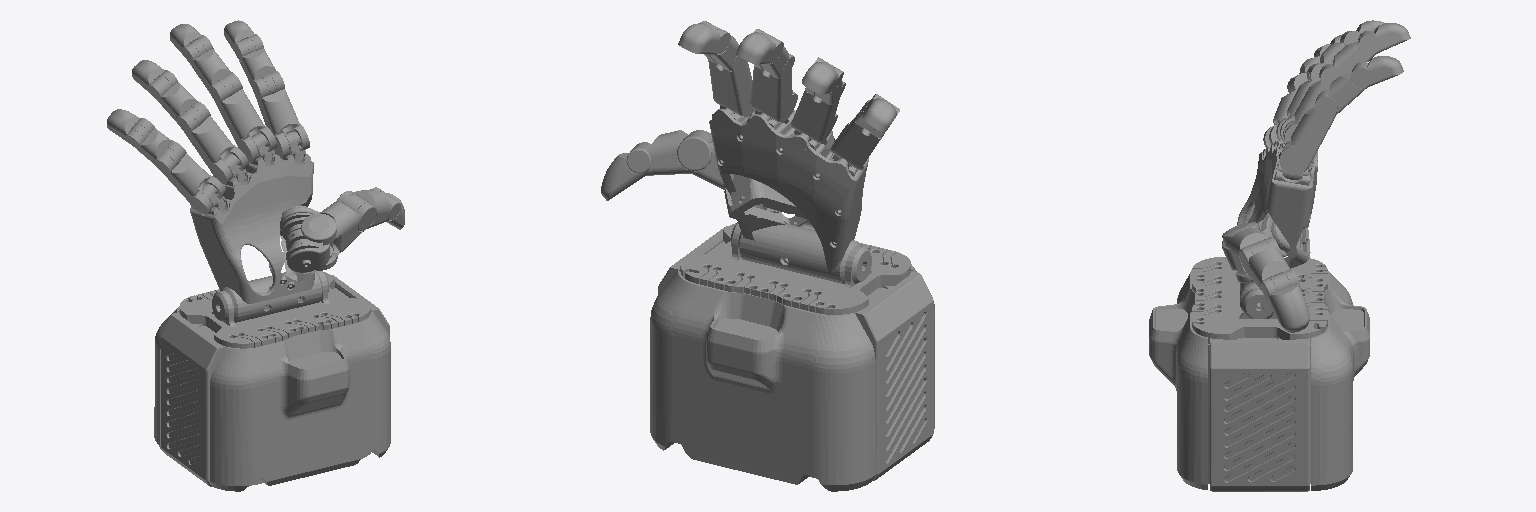
--- What the picture shows (computed from the rendered views, not written in the file) ---
Views: 3 orthographic renders of the robot side by side, from view 1: azimuth 30°, elevation 25°; view 2: azimuth 150°, elevation 25°; view 3: azimuth 270°, elevation 25°.
Robot: p50_autoconverted — 27 links, 26 joints (20 revolute, 6 fixed); root link root; default pose: every joint at zero.
Visible links, largest first — view 1: base_link, middle_pp, thumb_mp, ring_pp, index_pp, pinky_pp, thumb_cmc, thumb_pp, middle_mp, ring_mp, index_mp, pinky_dp (+4 smaller); view 2: base_link, thumb_pp, middle_pp, index_pp, ring_pp, pinky_pp, index_dp, middle_dp, thumb_dp, ring_dp, pinky_dp, thumb_mp; view 3: base_link, index_pp, thumb_pp, thumb_dp, thumb_mp, index_dp, middle_dp, middle_pp, index_mp, pinky_pp, middle_mp, ring_pp.
Boxes of the visible links, x1,y1,x2,y2 form: base_link: (154,149,390,491); middle_pp: (208,72,276,162); thumb_mp: (301,194,368,270); ring_pp: (176,101,248,183); index_pp: (252,71,309,158); pinky_pp: (154,140,225,214); thumb_cmc: (280,207,332,272); thumb_pp: (337,187,400,230); middle_mp: (190,39,234,96); ring_mp: (155,75,203,125); index_mp: (239,37,276,94); pinky_dp: (107,109,154,148); base_link: (650,109,934,491); thumb_pp: (627,130,711,175); middle_pp: (750,54,797,122); index_pp: (708,56,754,116); ring_pp: (790,81,845,143); pinky_pp: (830,100,883,169); index_dp: (678,21,730,54); middle_dp: (736,29,783,64); thumb_dp: (601,144,649,200); ring_dp: (802,57,843,94); pinky_dp: (863,94,899,132); thumb_mp: (686,132,766,209); base_link: (1149,141,1369,491); index_pp: (1280,90,1337,174); thumb_pp: (1239,237,1299,300); thumb_dp: (1269,272,1309,332); thumb_mp: (1222,222,1269,282); index_dp: (1350,56,1403,87); middle_dp: (1358,23,1410,54); middle_pp: (1283,64,1341,142); index_mp: (1316,64,1367,114); pinky_pp: (1263,73,1307,148); middle_mp: (1320,32,1375,73); ring_pp: (1276,63,1325,143).
Size in the robot's own frame: 0.2016 by 0.1615 by 0.2778 metres.
26 mesh visuals loaded from 26 distinct referenced files (26 binary STL).

robot.urdf — p50_autoconverted:
<?xml version="1.0" ?>
<!-- =================================================================================== -->
<!-- |    This document was autogenerated by xacro from simplified.xacro               | -->
<!-- |    EDITING THIS FILE BY HAND IS RECOMMENDED                                     | -->
<!-- =================================================================================== -->
<robot name="p50_autoconverted">
  <material name="silver_default">
    <color rgba="0.700 0.700 0.700 1.000"/>
  </material>
  <material name="Steel_Satin">
    <color rgba="0.6274509803921569 0.6274509803921569 0.6274509803921569 1.0"/>
  </material>
  <link name="root"/>
  <link name="base_link">
    <inertial>
      <origin rpy="0.0 0.0 0.0" xyz="-0.00025743985489043707 0.002783420515116142 0.05479188623862443"/>
      <mass value="11.839727556266766"/>
      <inertia ixx="0.025854110200000006" ixy="1.1251800000000001e-05" ixz="0.00026008170000000003" iyy="0.0314024074" iyz="-0.00035490340000000003" izz="0.027059390900000004"/>
    </inertial>
    <visual>
      <origin rpy="0.0 0.0 0.0" xyz="0.0 0.0 0.0"/>
      <geometry>
        <mesh filename="meshes/visual/base_link.stl" scale="0.001 0.001 0.001"/>
      </geometry>
      <material name="Steel_Satin"/>
    </visual>
    <collision>
      <origin rpy="0.0 0.0 0.0" xyz="0.0 0.0 0.0"/>
      <geometry>
        <mesh filename="meshes/visual/base_link.stl" scale="0.001 0.001 0.001"/>
      </geometry>
    </collision>
  </link>
  <link name="index_mcp">
    <inertial>
      <origin rpy="1.7017348928028146 -0.10749161153413689 1.762782544514273" xyz="0.0037575958450508295 0.0 3.1689745901815615e-05"/>
      <mass value="0.0026395511835507687"/>
      <inertia ixx="1.1820000000000003e-07" ixy="9e-10" ixz="1.04e-08" iyy="1.138e-07" iyz="-7.100000000000001e-09" izz="6.74e-08"/>
    </inertial>
    <visual>
      <origin rpy="1.7017348928028146 -0.10749161153413689 1.762782544514273" xyz="-0.19142570945292872 -0.0638459650901201 0.0027879270241161574"/>
      <geometry>
        <mesh filename="meshes/visual/index_mcp.stl" scale="0.001 0.001 0.001"/>
      </geometry>
      <material name="Steel_Satin"/>
    </visual>
    <collision>
      <origin rpy="1.7017348928028146 -0.10749161153413689 1.762782544514273" xyz="-0.19142570945292872 -0.0638459650901201 0.0027879270241161574"/>
      <geometry>
        <mesh filename="meshes/visual/index_mcp.stl" scale="0.001 0.001 0.001"/>
      </geometry>
    </collision>
  </link>
  <link name="middle_mcp">
    <inertial>
      <origin rpy="1.710422666954546 0.0 1.8849555921538765" xyz="0.0037575958450506877 0.0 3.168974590181506e-05"/>
      <mass value="0.0026395511835507687"/>
      <inertia ixx="1.15e-07" ixy="2.2000000000000003e-09" ixz="1.63e-08" iyy="1.1399999999999999e-07" iyz="-5.9e-09" izz="7.040000000000001e-08"/>
    </inertial>
    <visual>
      <origin rpy="1.710422666954546 0.0 1.8849555921538765" xyz="-0.19275971829860722 -0.06552295023217906 0.005739211794064878"/>
      <geometry>
        <mesh filename="meshes/visual/middle_mcp.stl" scale="0.001 0.001 0.001"/>
      </geometry>
      <material name="Steel_Satin"/>
    </visual>
    <collision>
      <origin rpy="1.710422666954546 0.0 1.8849555921538765" xyz="-0.19275971829860722 -0.06552295023217906 0.005739211794064878"/>
      <geometry>
        <mesh filename="meshes/visual/middle_mcp.stl" scale="0.001 0.001 0.001"/>
      </geometry>
    </collision>
  </link>
  <link name="pinky_mcp">
    <inertial>
      <origin rpy="1.7010466700342677 0.20431604263360326 2.1467549799530254" xyz="0.0037575958450507584 0.0 -0.00011831025409819008"/>
      <mass value="0.0026395511835507687"/>
      <inertia ixx="1.042e-07" ixy="9e-10" ixz="2.5099999999999996e-08" iyy="1.151e-07" iyz="1e-09" izz="8.01e-08"/>
    </inertial>
    <visual>
      <origin rpy="1.7010466700342677 0.20431604263360326 2.1467549799530254" xyz="-0.17443999513816405 -0.06463563158133116 0.001950706904977398"/>
      <geometry>
        <mesh filename="meshes/visual/pinky_mcp.stl" scale="0.001 0.001 0.001"/>
      </geometry>
      <material name="Steel_Satin"/>
    </visual>
    <collision>
      <origin rpy="1.7010466700342677 0.20431604263360326 2.1467549799530254" xyz="-0.17443999513816405 -0.06463563158133116 0.001950706904977398"/>
      <geometry>
        <mesh filename="meshes/visual/pinky_mcp.stl" scale="0.001 0.001 0.001"/>
      </geometry>
    </collision>
  </link>
  <link name="ring_mcp">
    <inertial>
      <origin rpy="1.7018668462741051 0.10862308449673885 2.00712863979348" xyz="0.003757595845050581 0.0 -0.00011831025409819729"/>
      <mass value="0.0026395511835507687"/>
      <inertia ixx="1.104e-07" ixy="2.2000000000000003e-09" ixz="2.12e-08" iyy="1.147e-07" iyz="-2.7e-09" izz="7.43e-08"/>
    </inertial>
    <visual>
      <origin rpy="1.7018668462741051 0.10862308449673885 2.00712863979348" xyz="-0.18579322370454734 -0.06428672495618938 0.0033431266067439026"/>
      <geometry>
        <mesh filename="meshes/visual/ring_mcp.stl" scale="0.001 0.001 0.001"/>
      </geometry>
      <material name="Steel_Satin"/>
    </visual>
    <collision>
      <origin rpy="1.7018668462741051 0.10862308449673885 2.00712863979348" xyz="-0.18579322370454734 -0.06428672495618938 0.0033431266067439026"/>
      <geometry>
        <mesh filename="meshes/visual/ring_mcp.stl" scale="0.001 0.001 0.001"/>
      </geometry>
    </collision>
  </link>
  <link name="thumb_cmc">
    <inertial>
      <origin rpy="-1.3936916939156758 -1.1603495754713762 0.9074649550610439" xyz="-6.285710729230232e-06 -0.018793316757115052 0.0032730901278382562"/>
      <mass value="0.13646098534521342"/>
      <inertia ixx="1.92542e-05" ixy="-1.1488e-06" ixz="-1.3239e-06" iyy="1.46583e-05" iyz="-3.821e-06" izz="1.97712e-05"/>
    </inertial>
    <visual>
      <origin rpy="-1.3936916939156758 -1.1603495754713762 0.9074649550610439" xyz="0.12438495858597794 -0.09398871280060712 -0.028859361053456926"/>
      <geometry>
        <mesh filename="meshes/visual/thumb_cmc.stl" scale="0.001 0.001 0.001"/>
      </geometry>
      <material name="Steel_Satin"/>
    </visual>
    <collision>
      <origin rpy="-1.3936916939156758 -1.1603495754713762 0.9074649550610439" xyz="0.12438495858597794 -0.09398871280060712 -0.028859361053456926"/>
      <geometry>
        <mesh filename="meshes/visual/thumb_cmc.stl" scale="0.001 0.001 0.001"/>
      </geometry>
    </collision>
  </link>
  <link name="ring_pp">
    <inertial>
      <origin rpy="2.017319625112362 -0.041832556602295234 2.017779554511588" xyz="0.018561009678868458 -4.811339149313199e-10 0.0015141649774916565"/>
      <mass value="0.011897317640220903"/>
      <inertia ixx="1.9203e-06" ixy="2.7180000000000004e-07" ixz="5.256000000000001e-07" iyy="2.0527000000000003e-06" iyz="-5.463000000000001e-07" izz="1.2427e-06"/>
    </inertial>
    <visual>
      <origin rpy="2.017319625112362 -0.041832556602295234 2.017779554511588" xyz="-0.18185103523156887 -0.06428672495618931 0.06990567158612668"/>
      <geometry>
        <mesh filename="meshes/visual/ring_pp.stl" scale="0.001 0.001 0.001"/>
      </geometry>
      <material name="Steel_Satin"/>
    </visual>
    <collision>
      <origin rpy="2.017319625112362 -0.041832556602295234 2.017779554511588" xyz="-0.18185103523156887 -0.06428672495618931 0.06990567158612668"/>
      <geometry>
        <mesh filename="meshes/visual/ring_pp.stl" scale="0.001 0.001 0.001"/>
      </geometry>
    </collision>
  </link>
  <link name="pinky_pp">
    <inertial>
      <origin rpy="1.9919857950196116 0.008258409274978673 2.177986893068568" xyz="0.016832793550349338 -5.251937906791682e-10 0.0015430211276084816"/>
      <mass value="0.010734968037856127"/>
      <inertia ixx="1.3951e-06" ixy="2.167e-07" ixz="4.893e-07" iyy="1.74e-06" iyz="-3.312e-07" izz="1.1441e-06"/>
    </inertial>
    <visual>
      <origin rpy="1.9919857950196116 0.008258409274978673 2.177986893068568" xyz="-0.1716587257116102 -0.06463563158133112 0.06471419220585613"/>
      <geometry>
        <mesh filename="meshes/visual/pinky_pp.stl" scale="0.001 0.001 0.001"/>
      </geometry>
      <material name="Steel_Satin"/>
    </visual>
    <collision>
      <origin rpy="1.9919857950196116 0.008258409274978673 2.177986893068568" xyz="-0.1716587257116102 -0.06463563158133112 0.06471419220585613"/>
      <geometry>
        <mesh filename="meshes/visual/pinky_pp.stl" scale="0.001 0.001 0.001"/>
      </geometry>
    </collision>
  </link>
  <link name="middle_pp">
    <inertial>
      <origin rpy="2.0436691263374858 -0.10588779879323673 1.8671309257691981" xyz="0.020018862469634725 -4.5057832132044953e-10 0.0014936913701924404"/>
      <mass value="0.012870595232919467"/>
      <inertia ixx="2.4711e-06" ixy="2.674e-07" ixz="4.5450000000000005e-07" iyy="2.3213e-06" iyz="-7.877000000000001e-07" izz="1.3277000000000002e-06"/>
    </inertial>
    <visual>
      <origin rpy="2.0436691263374858 -0.10588779879323673 1.8671309257691981" xyz="-0.18762919241666257 -0.06552295023217913 0.07439898274184653"/>
      <geometry>
        <mesh filename="meshes/visual/middle_pp.stl" scale="0.001 0.001 0.001"/>
      </geometry>
      <material name="Steel_Satin"/>
    </visual>
    <collision>
      <origin rpy="2.0436691263374858 -0.10588779879323673 1.8671309257691981" xyz="-0.18762919241666257 -0.06552295023217913 0.07439898274184653"/>
      <geometry>
        <mesh filename="meshes/visual/middle_pp.stl" scale="0.001 0.001 0.001"/>
      </geometry>
    </collision>
  </link>
  <link name="thumb_mp">
    <inertial>
      <origin rpy="0.6950622920666284 -1.1678650691046832 -1.1058638873720976" xyz="0.0011454097605115266 -0.00033109920687998787 0.017558791398614746"/>
      <mass value="0.1355419083343085"/>
      <inertia ixx="1.89377e-05" ixy="-3.6814e-06" ixz="-5.1552e-06" iyy="3.06259e-05" iyz="5.782e-07" izz="2.40837e-05"/>
    </inertial>
    <visual>
      <origin rpy="0.6950622920666284 -1.1678650691046832 -1.1058638873720976" xyz="0.12851644713633703 -0.033521944510523684 -0.06873471100954592"/>
      <geometry>
        <mesh filename="meshes/visual/thumb_mp.stl" scale="0.001 0.001 0.001"/>
      </geometry>
      <material name="Steel_Satin"/>
    </visual>
    <collision>
      <origin rpy="0.6950622920666284 -1.1678650691046832 -1.1058638873720976" xyz="0.12851644713633703 -0.033521944510523684 -0.06873471100954592"/>
      <geometry>
        <mesh filename="meshes/visual/thumb_mp.stl" scale="0.001 0.001 0.001"/>
      </geometry>
    </collision>
  </link>
  <link name="index_pp">
    <inertial>
      <origin rpy="2.049122246280331 -0.16646628811745767 1.7148519263181665" xyz="0.01856100967886853 -4.811338971677514e-10 0.0015141649774916034"/>
      <mass value="0.011897317640220903"/>
      <inertia ixx="2.1764e-06" ixy="1.207e-07" ixz="1.766e-07" iyy="1.9517e-06" iyz="-6.791000000000001e-07" izz="1.0876000000000002e-06"/>
    </inertial>
    <visual>
      <origin rpy="2.049122246280331 -0.16646628811745767 1.7148519263181665" xyz="-0.18738503298832798 -0.06384596509012005 0.07116942432509113"/>
      <geometry>
        <mesh filename="meshes/visual/index_pp.stl" scale="0.001 0.001 0.001"/>
      </geometry>
      <material name="Steel_Satin"/>
    </visual>
    <collision>
      <origin rpy="2.049122246280331 -0.16646628811745767 1.7148519263181665" xyz="-0.18738503298832798 -0.06384596509012005 0.07116942432509113"/>
      <geometry>
        <mesh filename="meshes/visual/index_pp.stl" scale="0.001 0.001 0.001"/>
      </geometry>
    </collision>
  </link>
  <link name="pinky_mp">
    <inertial>
      <origin rpy="2.28198369074538 -0.18849108567474793 2.151578092030236" xyz="0.012255335613894722 0.0 0.0006277124921955491"/>
      <mass value="0.005213101795055971"/>
      <inertia ixx="3.716e-07" ixy="9.810000000000001e-08" ixz="8.86e-08" iyy="3.434e-07" iyz="-1.035e-07" izz="3.6340000000000004e-07"/>
    </inertial>
    <visual>
      <origin rpy="2.28198369074538 -0.18849108567474793 2.151578092030236" xyz="-0.17287398873248602 -0.06463563158133112 0.13072421331422582"/>
      <geometry>
        <mesh filename="meshes/visual/pinky_mp.stl" scale="0.001 0.001 0.001"/>
      </geometry>
      <material name="Steel_Satin"/>
    </visual>
    <collision>
      <origin rpy="2.28198369074538 -0.18849108567474793 2.151578092030236" xyz="-0.17287398873248602 -0.06463563158133112 0.13072421331422582"/>
      <geometry>
        <mesh filename="meshes/visual/pinky_mp.stl" scale="0.001 0.001 0.001"/>
      </geometry>
    </collision>
  </link>
  <link name="middle_mp">
    <inertial>
      <origin rpy="2.383961950832267 -0.19996221125455294 1.8147421851065413" xyz="0.01546234793396053 0.0 0.0005268185283266469"/>
      <mass value="0.006850263254868857"/>
      <inertia ixx="7.458000000000001e-07" ixy="9.640000000000002e-08" ixz="8.12e-08" iyy="4.819000000000001e-07" iyz="-2.581e-07" izz="5.603000000000001e-07"/>
    </inertial>
    <visual>
      <origin rpy="2.383961950832267 -0.19996221125455294 1.8147421851065413" xyz="-0.19067692703364025 -0.06552295023217913 0.14751029175780983"/>
      <geometry>
        <mesh filename="meshes/visual/middle_mp.stl" scale="0.001 0.001 0.001"/>
      </geometry>
      <material name="Steel_Satin"/>
    </visual>
    <collision>
      <origin rpy="2.383961950832267 -0.19996221125455294 1.8147421851065413" xyz="-0.19067692703364025 -0.06552295023217913 0.14751029175780983"/>
      <geometry>
        <mesh filename="meshes/visual/middle_mp.stl" scale="0.001 0.001 0.001"/>
      </geometry>
    </collision>
  </link>
  <link name="index_mp">
    <inertial>
      <origin rpy="2.402168281060521 -0.20557147641561535 1.6488813450951116" xyz="0.014231615723840357 0.0 0.0005568085980096172"/>
      <mass value="0.006227568575151113"/>
      <inertia ixx="6.363000000000001e-07" ixy="2.54e-08" ixz="2.13e-08" iyy="3.9870000000000004e-07" iyz="-2.159e-07" izz="4.5170000000000005e-07"/>
    </inertial>
    <visual>
      <origin rpy="2.402168281060521 -0.20557147641561535 1.6488813450951116" xyz="-0.18873298839075897 -0.06384596509012003 0.14336593167253767"/>
      <geometry>
        <mesh filename="meshes/visual/index_mp.stl" scale="0.001 0.001 0.001"/>
      </geometry>
      <material name="Steel_Satin"/>
    </visual>
    <collision>
      <origin rpy="2.402168281060521 -0.20557147641561535 1.6488813450951116" xyz="-0.18873298839075897 -0.06384596509012003 0.14336593167253767"/>
      <geometry>
        <mesh filename="meshes/visual/index_mp.stl" scale="0.001 0.001 0.001"/>
      </geometry>
    </collision>
  </link>
  <link name="thumb_pp">
    <inertial>
      <origin rpy="2.0518472638487895 -1.1253353688103003 -2.3731843774931276" xyz="0.0004743124953415645 -4.9851246354823966e-05 0.014037341494746515"/>
      <mass value="0.08561101056611906"/>
      <inertia ixx="7.876200000000001e-06" ixy="-1.8488000000000002e-06" ixz="1.3738e-06" iyy="1.11943e-05" iyz="2.56e-07" izz="1.28189e-05"/>
    </inertial>
    <visual>
      <origin rpy="2.0518472638487895 -1.1253353688103003 -2.3731843774931276" xyz="0.16260298040794055 -0.03710458352289372 -0.024178686024923027"/>
      <geometry>
        <mesh filename="meshes/visual/thumb_pp.stl" scale="0.001 0.001 0.001"/>
      </geometry>
      <material name="Steel_Satin"/>
    </visual>
    <collision>
      <origin rpy="2.0518472638487895 -1.1253353688103003 -2.3731843774931276" xyz="0.16260298040794055 -0.03710458352289372 -0.024178686024923027"/>
      <geometry>
        <mesh filename="meshes/visual/thumb_pp.stl" scale="0.001 0.001 0.001"/>
      </geometry>
    </collision>
  </link>
  <link name="ring_mp">
    <inertial>
      <origin rpy="2.3366775745781356 -0.18811365872715968 1.9807334102973713" xyz="0.014231615723840463 0.0 0.0005568085980097414"/>
      <mass value="0.006227568575151113"/>
      <inertia ixx="5.723e-07" ixy="1.1750000000000001e-07" ixz="1.0300000000000001e-07" iyy="4.35e-07" iyz="-1.842e-07" izz="4.794e-07"/>
    </inertial>
    <visual>
      <origin rpy="2.3366775745781356 -0.18811365872715968 1.9807334102973713" xyz="-0.18396496042819585 -0.06428672495618933 0.14028565384330433"/>
      <geometry>
        <mesh filename="meshes/visual/ring_mp.stl" scale="0.001 0.001 0.001"/>
      </geometry>
      <material name="Steel_Satin"/>
    </visual>
    <collision>
      <origin rpy="2.3366775745781356 -0.18811365872715968 1.9807334102973713" xyz="-0.18396496042819585 -0.06428672495618933 0.14028565384330433"/>
      <geometry>
        <mesh filename="meshes/visual/ring_mp.stl" scale="0.001 0.001 0.001"/>
      </geometry>
    </collision>
  </link>
  <link name="pinky_dp">
    <inertial>
      <origin rpy="2.5935418325013315 -0.36870925476651006 2.064899017996019" xyz="0.01089306086427829 1.1616753781140688e-10 0.0008705848933307437"/>
      <mass value="0.004531952355822714"/>
      <inertia ixx="3.0200000000000003e-07" ixy="6.46e-08" ixz="5.3e-09" iyy="2.064e-07" iyz="-4.8000000000000006e-08" izz="3.3800000000000004e-07"/>
    </inertial>
    <visual>
      <origin rpy="2.5935418325013315 -0.36870925476651006 2.064899017996019" xyz="-0.14123041288352414 -0.0646356315813311 0.1905174685961275"/>
      <geometry>
        <mesh filename="meshes/visual/pinky_dp.stl" scale="0.001 0.001 0.001"/>
      </geometry>
      <material name="Steel_Satin"/>
    </visual>
    <collision>
      <origin rpy="2.5935418325013315 -0.36870925476651006 2.064899017996019" xyz="-0.14123041288352414 -0.0646356315813311 0.1905174685961275"/>
      <geometry>
        <mesh filename="meshes/visual/pinky_dp.stl" scale="0.001 0.001 0.001"/>
      </geometry>
    </collision>
  </link>
  <link name="thumb_dp">
    <inertial>
      <origin rpy="2.575873468038568 -0.6985501890607833 -2.8004979807671586" xyz="0.0008304358993063232 -9.483275416703574e-05 0.011994918369585755"/>
      <mass value="0.05558786060995699"/>
      <inertia ixx="4.2789e-06" ixy="-6.912e-07" ixz="1.4033000000000002e-06" iyy="4.6252e-06" iyz="8.619000000000001e-07" izz="3.8414999999999996e-06"/>
    </inertial>
    <visual>
      <origin rpy="2.575873468038568 -0.6985501890607833 -2.8004979807671586" xyz="0.16797776915732932 -0.037669496584112686 0.03500921083680618"/>
      <geometry>
        <mesh filename="meshes/visual/thumb_dp.stl" scale="0.001 0.001 0.001"/>
      </geometry>
      <material name="Steel_Satin"/>
    </visual>
    <collision>
      <origin rpy="2.575873468038568 -0.6985501890607833 -2.8004979807671586" xyz="0.16797776915732932 -0.037669496584112686 0.03500921083680618"/>
      <geometry>
        <mesh filename="meshes/visual/thumb_dp.stl" scale="0.001 0.001 0.001"/>
      </geometry>
    </collision>
  </link>
  <link name="ring_dp">
    <inertial>
      <origin rpy="2.6728699610002273 -0.3148104789350532 1.896165719050475" xyz="0.010929353372684431 2.959357979115396e-07 0.0009004211113699867"/>
      <mass value="0.004517050419432207"/>
      <inertia ixx="3.1389999999999997e-07" ixy="4.5700000000000006e-08" ixz="2e-09" iyy="1.8980000000000002e-07" iyz="-5.140000000000001e-08" izz="3.374e-07"/>
    </inertial>
    <visual>
      <origin rpy="2.6728699610002273 -0.3148104789350532 1.896165719050475" xyz="-0.15214108236631646 -0.06428672495618931 0.2046637000076761"/>
      <geometry>
        <mesh filename="meshes/visual/ring_dp.stl" scale="0.001 0.001 0.001"/>
      </geometry>
      <material name="Steel_Satin"/>
    </visual>
    <collision>
      <origin rpy="2.6728699610002273 -0.3148104789350532 1.896165719050475" xyz="-0.15214108236631646 -0.06428672495618931 0.2046637000076761"/>
      <geometry>
        <mesh filename="meshes/visual/ring_dp.stl" scale="0.001 0.001 0.001"/>
      </geometry>
    </collision>
  </link>
  <link name="index_dp">
    <inertial>
      <origin rpy="2.75907306776212 -0.21969714881519486 1.5727867236837585" xyz="0.010929353372684397 2.95935797893776e-07 0.0009004211113699512"/>
      <mass value="0.004517050419432207"/>
      <inertia ixx="3.2420000000000006e-07" ixy="-2e-10" ixz="-7.9e-09" iyy="1.783e-07" iyz="-5.5800000000000003e-08" izz="3.385e-07"/>
    </inertial>
    <visual>
      <origin rpy="2.75907306776212 -0.21969714881519486 1.5727867236837585" xyz="-0.15556804599380084 -0.06384596509012007 0.2091889759609138"/>
      <geometry>
        <mesh filename="meshes/visual/index_dp.stl" scale="0.001 0.001 0.001"/>
      </geometry>
      <material name="Steel_Satin"/>
    </visual>
    <collision>
      <origin rpy="2.75907306776212 -0.21969714881519486 1.5727867236837585" xyz="-0.15556804599380084 -0.06384596509012007 0.2091889759609138"/>
      <geometry>
        <mesh filename="meshes/visual/index_dp.stl" scale="0.001 0.001 0.001"/>
      </geometry>
    </collision>
  </link>
  <link name="middle_dp">
    <inertial>
      <origin rpy="2.7356230218691495 -0.2709185204562192 1.7318491121837347" xyz="0.010952231529227845 7.231160470411169e-10 0.0009189466335334373"/>
      <mass value="0.0045069103448089716"/>
      <inertia ixx="3.214e-07" ixy="2.3300000000000003e-08" ixz="-2.9000000000000003e-09" iyy="1.7840000000000004e-07" iyz="-5.2200000000000004e-08" izz="3.3769999999999996e-07"/>
    </inertial>
    <visual>
      <origin rpy="2.7356230218691495 -0.2709185204562192 1.7318491121837347" xyz="-0.1583265277133833 -0.065522950232179 0.21460331708249222"/>
      <geometry>
        <mesh filename="meshes/visual/middle_dp.stl" scale="0.001 0.001 0.001"/>
      </geometry>
      <material name="Steel_Satin"/>
    </visual>
    <collision>
      <origin rpy="2.7356230218691495 -0.2709185204562192 1.7318491121837347" xyz="-0.1583265277133833 -0.065522950232179 0.21460331708249222"/>
      <geometry>
        <mesh filename="meshes/visual/middle_dp.stl" scale="0.001 0.001 0.001"/>
      </geometry>
    </collision>
  </link>
  <link name="index_fingertip">
    <inertial>
      <origin rpy="-0.38251958582767304 0.21969714881519486 -0.0019903968888615453" xyz="0.0 0.0 0.0"/>
      <mass value="6.165375582669709e-09"/>
      <inertia ixx="0.0" ixy="0.0" ixz="0.0" iyy="0.0" iyz="0.0" izz="0.0"/>
    </inertial>
    <visual>
      <origin rpy="-0.38251958582767304 0.21969714881519486 -0.0019903968888615453" xyz="-0.06384596509012004 -0.17456804599380057 -0.21418897596091363"/>
      <geometry>
        <mesh filename="meshes/visual/index_fingertip.stl" scale="0.001 0.001 0.001"/>
      </geometry>
      <material name="Steel_Satin"/>
    </visual>
    <collision>
      <origin rpy="-0.38251958582767304 0.21969714881519486 -0.0019903968888615453" xyz="-0.06384596509012004 -0.17456804599380057 -0.21418897596091363"/>
      <geometry>
        <mesh filename="meshes/visual/index_fingertip.stl" scale="0.001 0.001 0.001"/>
      </geometry>
    </collision>
  </link>
  <link name="thumb_fingertip">
    <inertial>
      <origin rpy="0.07336084956936173 -0.7627723998296027 1.0964553254573675" xyz="0.0 0.0 0.0"/>
      <mass value="6.165375582669709e-09"/>
      <inertia ixx="0.0" ixy="-0.0" ixz="-0.0" iyy="0.0" iyz="0.0" izz="0.0"/>
    </inertial>
    <visual>
      <origin rpy="0.07336084956936173 -0.7627723998296027 1.0964553254573675" xyz="0.019904681067256277 0.008009210836806151 -0.17279510395208492"/>
      <geometry>
        <mesh filename="meshes/visual/thumb_fingertip.stl" scale="0.001 0.001 0.001"/>
      </geometry>
      <material name="Steel_Satin"/>
    </visual>
    <collision>
      <origin rpy="0.07336084956936173 -0.7627723998296027 1.0964553254573675" xyz="0.019904681067256277 0.008009210836806151 -0.17279510395208492"/>
      <geometry>
        <mesh filename="meshes/visual/thumb_fingertip.stl" scale="0.001 0.001 0.001"/>
      </geometry>
    </collision>
  </link>
  <link name="ring_fingertip">
    <inertial>
      <origin rpy="-0.468722692589566 0.3148104789350532 -0.3253693922555786" xyz="0.0 0.0 0.0"/>
      <mass value="6.165375582669709e-09"/>
      <inertia ixx="0.0" ixy="0.0" ixz="0.0" iyy="0.0" iyz="0.0" izz="0.0"/>
    </inertial>
    <visual>
      <origin rpy="-0.468722692589566 0.3148104789350532 -0.3253693922555786" xyz="-0.06428672495618924 -0.1711410823663162 -0.20966370000767579"/>
      <geometry>
        <mesh filename="meshes/visual/ring_fingertip.stl" scale="0.001 0.001 0.001"/>
      </geometry>
      <material name="Steel_Satin"/>
    </visual>
    <collision>
      <origin rpy="-0.468722692589566 0.3148104789350532 -0.3253693922555786" xyz="-0.06428672495618924 -0.1711410823663162 -0.20966370000767579"/>
      <geometry>
        <mesh filename="meshes/visual/ring_fingertip.stl" scale="0.001 0.001 0.001"/>
      </geometry>
    </collision>
  </link>
  <link name="middle_fingertip">
    <inertial>
      <origin rpy="-0.4059696317206436 0.27091852045621945 -0.16105278538883716" xyz="0.0 0.0 0.0"/>
      <mass value="6.165375582669709e-09"/>
      <inertia ixx="0.0" ixy="0.0" ixz="0.0" iyy="0.0" iyz="0.0" izz="0.0"/>
    </inertial>
    <visual>
      <origin rpy="-0.4059696317206436 0.27091852045621945 -0.16105278538883716" xyz="-0.065522950232179 -0.17732652771338359 -0.2196033170824925"/>
      <geometry>
        <mesh filename="meshes/visual/middle_fingertip.stl" scale="0.001 0.001 0.001"/>
      </geometry>
      <material name="Steel_Satin"/>
    </visual>
    <collision>
      <origin rpy="-0.4059696317206436 0.27091852045621945 -0.16105278538883716" xyz="-0.065522950232179 -0.17732652771338359 -0.2196033170824925"/>
      <geometry>
        <mesh filename="meshes/visual/middle_fingertip.stl" scale="0.001 0.001 0.001"/>
      </geometry>
    </collision>
  </link>
  <link name="pinky_fingertip">
    <inertial>
      <origin rpy="-0.5480508210884618 0.36870925476651006 -0.4941026912011226" xyz="0.0 0.0 0.0"/>
      <mass value="6.165375582669709e-09"/>
      <inertia ixx="0.0" ixy="0.0" ixz="0.0" iyy="0.0" iyz="0.0" izz="0.0"/>
    </inertial>
    <visual>
      <origin rpy="-0.5480508210884618 0.36870925476651006 -0.4941026912011226" xyz="-0.06463563158133105 -0.16023041288352427 -0.19551746859612754"/>
      <geometry>
        <mesh filename="meshes/visual/pinky_fingertip.stl" scale="0.001 0.001 0.001"/>
      </geometry>
      <material name="Steel_Satin"/>
    </visual>
    <collision>
      <origin rpy="-0.5480508210884618 0.36870925476651006 -0.4941026912011226" xyz="-0.06463563158133105 -0.16023041288352427 -0.19551746859612754"/>
      <geometry>
        <mesh filename="meshes/visual/pinky_fingertip.stl" scale="0.001 0.001 0.001"/>
      </geometry>
    </collision>
  </link>
  <joint name="root2base" type="fixed">
    <parent link="root"/>
    <child link="base_link"/>
  </joint>
  <joint name="thumb_base2cmc" type="revolute">
    <origin rpy="1.4250210672946975 1.065626150328479 1.038308733801324" xyz="0.02545227277276528 0.013843049223912985 0.15588107831179898"/>
    <parent link="base_link"/>
    <child link="thumb_cmc"/>
    <axis xyz="0.0 -1.0 0.0"/>
    <limit effort="100.0" lower="0.0" upper="1.4835298641951802" velocity="100.0"/>
  </joint>
  <joint name="thumb_cmc2mcp" type="revolute">
    <origin rpy="-0.6954281481356811 0.06724025795674438 -0.024378546945008406" xyz="0.0 -0.021158280580912462 0.011000000000000001"/>
    <parent link="thumb_cmc"/>
    <child link="thumb_mp"/>
    <axis xyz="-0.9945218953682721 0.10452846326765308 0.0"/>
    <limit effort="100.0" lower="-1.2217304763960306" upper="0.0" velocity="100.0"/>
  </joint>
  <joint name="thumb_mcp2pp" type="revolute">
    <origin rpy="0.06027643041747295 0.5204388675801157 0.016053508633057777" xyz="0.0 0.0 0.035"/>
    <parent link="thumb_mp"/>
    <child link="thumb_pp"/>
    <axis xyz="-0.1045284632676538 -0.994521895368276 0.0"/>
    <limit effort="100.0" lower="0.0" upper="1.7453292519943295" velocity="100.0"/>
  </joint>
  <joint name="thumb_pp2dp_actuated" type="revolute">
    <origin rpy="0.06027643041747299 0.520438867580117 0.016053508633057646" xyz="0.0 0.0 0.031"/>
    <parent link="thumb_pp"/>
    <child link="thumb_dp"/>
    <axis xyz="-0.10452846326765311 -0.99452189536827 0.0"/>
    <limit effort="100.0" lower="0.0" upper="2.0943951023931953" velocity="100.0"/>
  </joint>
  <joint name="index_base2mcp" type="revolute">
    <origin rpy="2.1398948280438876 -1.3275096116627072 2.4775640048362435" xyz="0.02569717283048402 0.020595546697329645 0.19910640572240776"/>
    <parent link="base_link"/>
    <child link="index_mcp"/>
    <axis xyz="0.0 0.0 1.0"/>
    <limit effort="100.0" lower="0.0" upper="0.6283185307179586" velocity="100.0"/>
  </joint>
  <joint name="index_mcp2pp" type="revolute">
    <origin rpy="0.0 -0.34906585039886684 0.0" xyz="0.009000000000000001 0.0 0.0"/>
    <parent link="index_mcp"/>
    <child link="index_pp"/>
    <axis xyz="0.0 1.0 0.0"/>
    <limit effort="100.0" lower="0.0" upper="1.8151424220741028" velocity="100.0"/>
  </joint>
  <joint name="index_pp2mp" type="revolute">
    <origin rpy="0.0 -0.3490658503988653 0.0" xyz="0.039 0.0 0.001"/>
    <parent link="index_pp"/>
    <child link="index_mp"/>
    <axis xyz="0.0 1.0 0.0"/>
    <limit effort="100.0" lower="0.0" upper="1.8151424220741028" velocity="100.0"/>
  </joint>
  <joint name="index_mp2dp" type="revolute">
    <origin rpy="0.0 -0.34906585039886573 0.0" xyz="0.029 0.0 0.0"/>
    <parent link="index_mp"/>
    <child link="index_dp"/>
    <axis xyz="0.0 1.0 0.0"/>
    <limit effort="100.0" lower="0.0" upper="1.8151424220741028" velocity="100.0"/>
  </joint>
  <joint name="middle_base2mcp" type="revolute">
    <origin rpy="1.9976345056314648 -1.2279478135732096 2.736904207080983" xyz="0.0027499999999997483 0.022648540210313265 0.20239067588218101"/>
    <parent link="base_link"/>
    <child link="middle_mcp"/>
    <axis xyz="0.0 0.0 1.0"/>
    <limit effort="100.0" lower="0.0" upper="0.6283185307179586" velocity="100.0"/>
  </joint>
  <joint name="middle_mcp2pp" type="revolute">
    <origin rpy="0.0 -0.3490658503988664 0.0" xyz="0.009000000000000001 0.0 0.0"/>
    <parent link="middle_mcp"/>
    <child link="middle_pp"/>
    <axis xyz="0.0 1.0 0.0"/>
    <limit effort="100.0" lower="0.0" upper="1.8151424220741028" velocity="100.0"/>
  </joint>
  <joint name="middle_pp2mp" type="revolute">
    <origin rpy="0.0 -0.3490658503988664 0.0" xyz="0.042 0.0 0.001"/>
    <parent link="middle_pp"/>
    <child link="middle_mp"/>
    <axis xyz="0.0 1.0 0.0"/>
    <limit effort="100.0" lower="0.0" upper="1.8151424220741028" velocity="100.0"/>
  </joint>
  <joint name="middle_mp2dp" type="revolute">
    <origin rpy="0.0 -0.34906585039886573 0.0" xyz="0.0315 0.0 0.0"/>
    <parent link="middle_mp"/>
    <child link="middle_dp"/>
    <axis xyz="0.0 1.0 0.0"/>
    <limit effort="100.0" lower="0.0" upper="1.8151424220741028" velocity="100.0"/>
  </joint>
  <joint name="ring_base2mcp" type="revolute">
    <origin rpy="1.8804023355185873 -1.1302572287916681 2.969489968772729" xyz="-0.01977423992872009 0.02008608404750541 0.1945985871955589"/>
    <parent link="base_link"/>
    <child link="ring_mcp"/>
    <axis xyz="0.0 0.0 1.0"/>
    <limit effort="100.0" lower="0.0" upper="0.6283185307179586" velocity="100.0"/>
  </joint>
  <joint name="ring_mcp2pp" type="revolute">
    <origin rpy="0.0 -0.3490658503988653 0.0" xyz="0.009000000000000001 0.0 -0.00015000000000004344"/>
    <parent link="ring_mcp"/>
    <child link="ring_pp"/>
    <axis xyz="0.0 1.0 0.0"/>
    <limit effort="100.0" lower="0.0" upper="1.8151424220741028" velocity="100.0"/>
  </joint>
  <joint name="ring_pp2mp" type="revolute">
    <origin rpy="0.0 -0.3490658503988653 0.0" xyz="0.039 0.0 0.001"/>
    <parent link="ring_pp"/>
    <child link="ring_mp"/>
    <axis xyz="0.0 1.0 0.0"/>
    <limit effort="100.0" lower="0.0" upper="1.8151424220741028" velocity="100.0"/>
  </joint>
  <joint name="ring_mp2dp" type="revolute">
    <origin rpy="0.0 -0.34906585039886595 0.0" xyz="0.029 0.0 0.0"/>
    <parent link="ring_mp"/>
    <child link="ring_dp"/>
    <axis xyz="0.0 1.0 0.0"/>
    <limit effort="100.0" lower="0.0" upper="1.8151424220741028" velocity="100.0"/>
  </joint>
  <joint name="pinky_base2mcp" type="revolute">
    <origin rpy="1.8115905887375807 -1.0082865765577846 -3.140390136848134" xyz="-0.03955441908569702 0.013471938811980349 0.1812866151335743"/>
    <parent link="base_link"/>
    <child link="pinky_mcp"/>
    <axis xyz="0.0 0.0 1.0"/>
    <limit effort="100.0" lower="0.0" upper="0.6283185307179586" velocity="100.0"/>
  </joint>
  <joint name="pinky_mp2dp" type="revolute">
    <origin rpy="0.0 -0.34906585039886573 0.0" xyz="0.025 0.0 0.0"/>
    <parent link="pinky_mp"/>
    <child link="pinky_dp"/>
    <axis xyz="0.0 1.0 0.0"/>
    <limit effort="100.0" lower="0.0" upper="1.8151424220741028" velocity="100.0"/>
  </joint>
  <joint name="pinky_mcp2pp" type="revolute">
    <origin rpy="0.0 -0.34906585039886573 0.0" xyz="0.009000000000000001 0.0 -0.0001499999999999918"/>
    <parent link="pinky_mcp"/>
    <child link="pinky_pp"/>
    <axis xyz="0.0 1.0 0.0"/>
    <limit effort="100.0" lower="0.0" upper="1.8151424220741028" velocity="100.0"/>
  </joint>
  <joint name="pinky_pp2mp" type="revolute">
    <origin rpy="0.0 -0.34906585039886573 0.0" xyz="0.035500000000000004 0.0 0.001"/>
    <parent link="pinky_pp"/>
    <child link="pinky_mp"/>
    <axis xyz="0.0 1.0 0.0"/>
    <limit effort="100.0" lower="0.0" upper="1.8151424220741028" velocity="100.0"/>
  </joint>
  <joint name="thumb_fingertip_offset" type="fixed">
    <origin rpy="1.5707963267948966 0.0 -1.675516081914556" xyz="-0.0017901394116629987 0.00018815123388174815 0.027"/>
    <parent link="thumb_dp"/>
    <child link="thumb_fingertip"/>
  </joint>
  <joint name="index_fingertip_offset" type="fixed">
    <origin rpy="3.141592653589793 0.0 1.5707963267948966" xyz="0.019 0.0 -0.005"/>
    <parent link="index_dp"/>
    <child link="index_fingertip"/>
  </joint>
  <joint name="middle_fingertip_offset" type="fixed">
    <origin rpy="3.141592653589793 0.0 1.5707963267948966" xyz="0.019 0.0 -0.005"/>
    <parent link="middle_dp"/>
    <child link="middle_fingertip"/>
  </joint>
  <joint name="ring_fingertip_offset" type="fixed">
    <origin rpy="3.141592653589793 0.0 1.5707963267948966" xyz="0.019 0.0 -0.005"/>
    <parent link="ring_dp"/>
    <child link="ring_fingertip"/>
  </joint>
  <joint name="pinky_fingertip_offset" type="fixed">
    <origin rpy="3.141592653589793 0.0 1.5707963267948966" xyz="0.019 0.0 -0.005"/>
    <parent link="pinky_dp"/>
    <child link="pinky_fingertip"/>
  </joint>
</robot>
